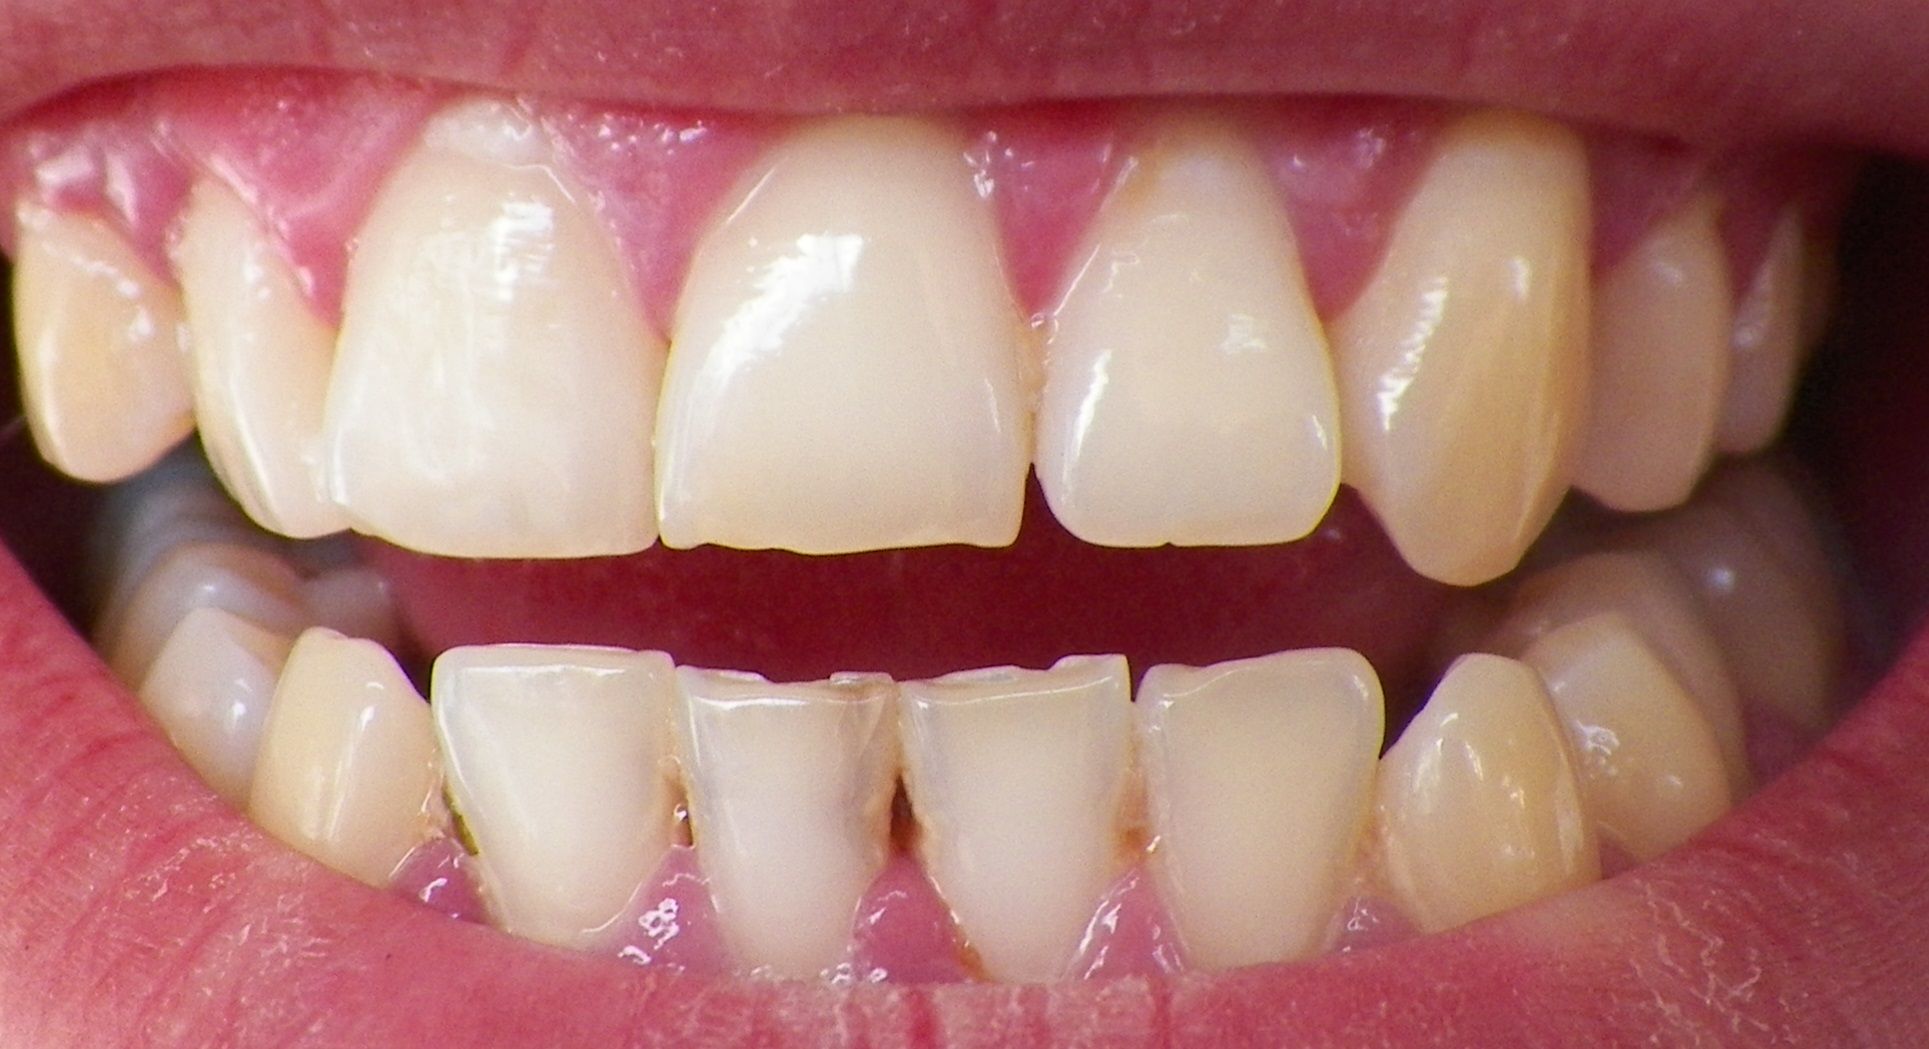boca: (30, 115, 1883, 984)
